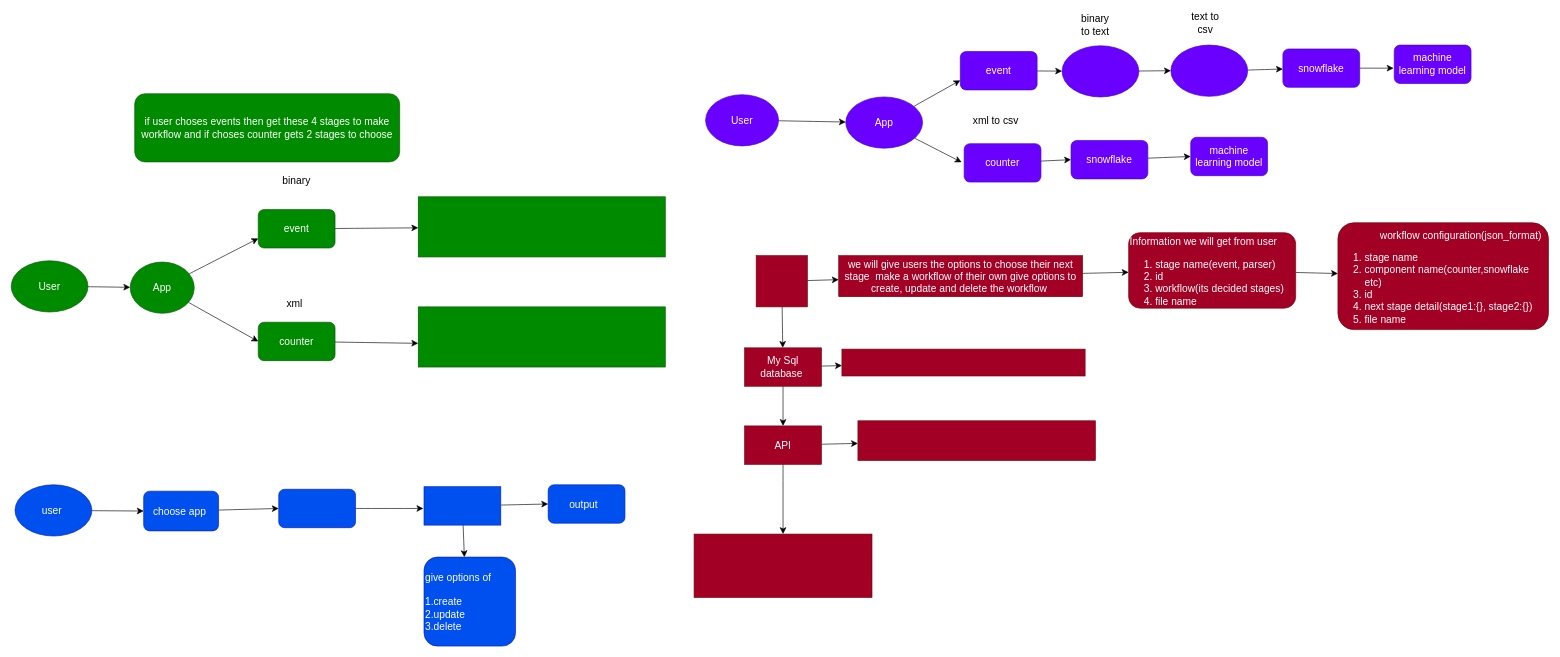
The diagram is 1560 pixels wide and 657 high, and some of its shapes have lost their labels. Here are the shapes that lost their labels. From the top down, the box of each, then its label:
(1061, 45, 1139, 97): parser
(1170, 44, 1248, 96): scanner
(418, 196, 665, 257): 4 stages 1.parser 2.scanner 3.snowflake 4.machinelearning
(756, 255, 807, 307): workflow manager
(418, 306, 665, 367): 2 stages 1.snowflake 2.machinelearning
(841, 348, 1085, 376): here we will store the information comming from workflow configuration
(857, 420, 1095, 460): we will make an api to retrive the information
(278, 489, 356, 528): upload file
(423, 486, 501, 525): decide your workflow (choose stages)
(693, 533, 872, 597): next we will design json getter and post processsor function according to it.
